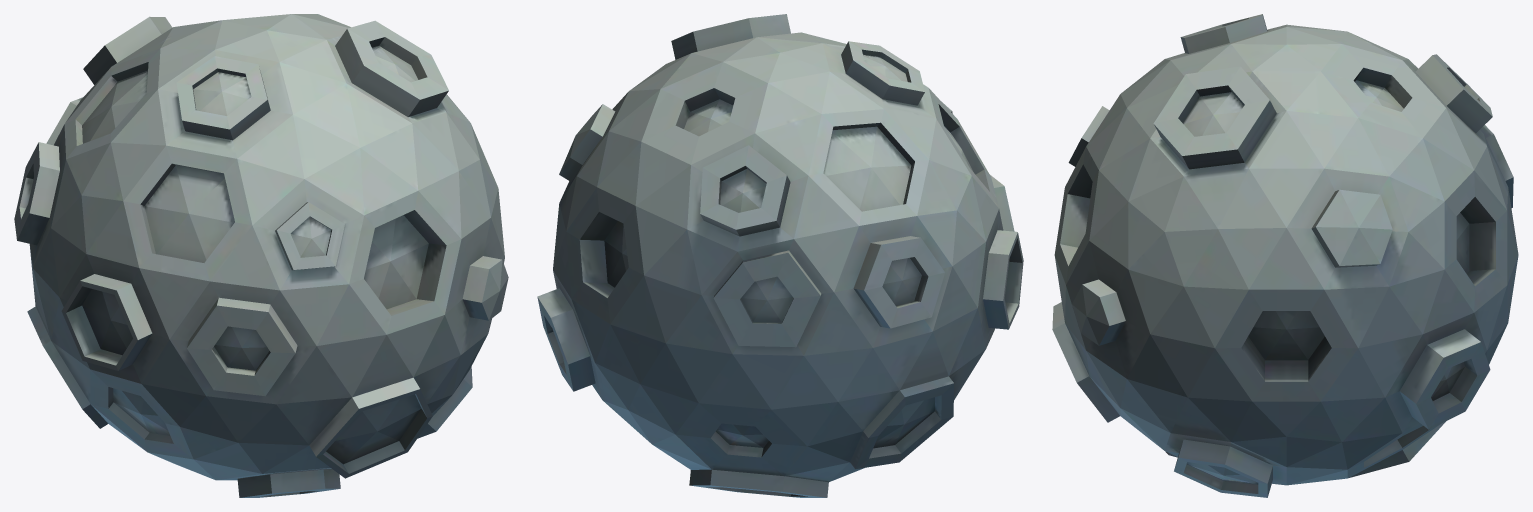
Rendered from 63c8LKpoXTO.glb.
3 renders of one model, left to right at view 1: azimuth 30°, elevation 25°; view 2: azimuth 150°, elevation 25°; view 3: azimuth 270°, elevation 25°, orthographic. The views are drawn at different scales.
Visible parts, largest first — view 1: moon; view 2: moon; view 3: moon.
Part boxes in pixels (x1,y1,x2,y2): moon: (14, 14, 508, 497); moon: (537, 14, 1023, 497); moon: (1052, 14, 1518, 497).
Bounding box in the file's own units: 0.9822 × 1 × 0.9785.
1 material, 1 textured.
